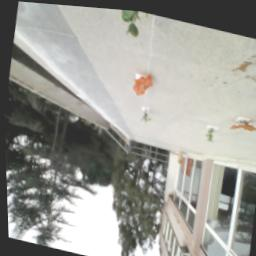herb: (116, 8, 145, 39), (140, 108, 154, 123), (205, 124, 216, 141)
wild: (131, 70, 155, 98), (228, 114, 256, 134)
